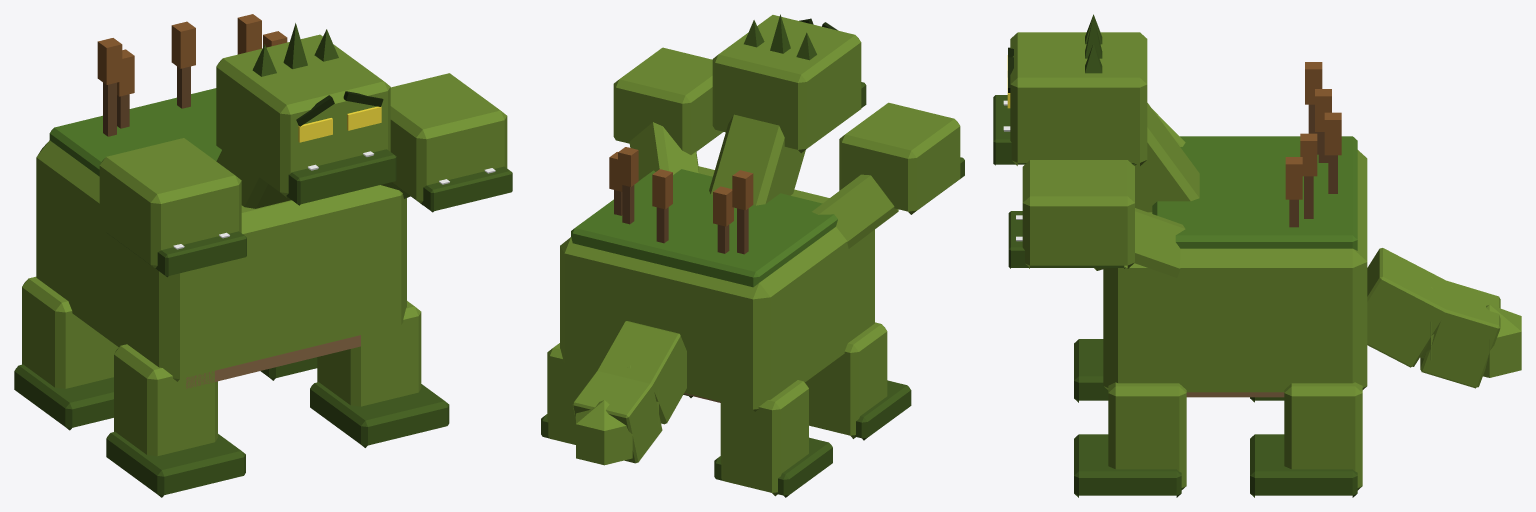
Rendered from r6_boss_bog_hydra.glb.
3 renders of one model, left to right at view 1: azimuth 30°, elevation 25°; view 2: azimuth 150°, elevation 25°; view 3: azimuth 270°, elevation 25°, orthographic. The views are drawn at different scales.
Parts seen in each view (by area): view 1: r6_boss_bog_hydra_mesh; view 2: r6_boss_bog_hydra_mesh; view 3: r6_boss_bog_hydra_mesh.
Part boxes in pixels (x1,y1,x2,y2): r6_boss_bog_hydra_mesh: [14, 14, 512, 497]; r6_boss_bog_hydra_mesh: [541, 14, 964, 497]; r6_boss_bog_hydra_mesh: [993, 14, 1521, 497].
Bounding box in the file's own units: 6.86 × 8 × 9.19.
Materials: 1 (1 with a texture image).
